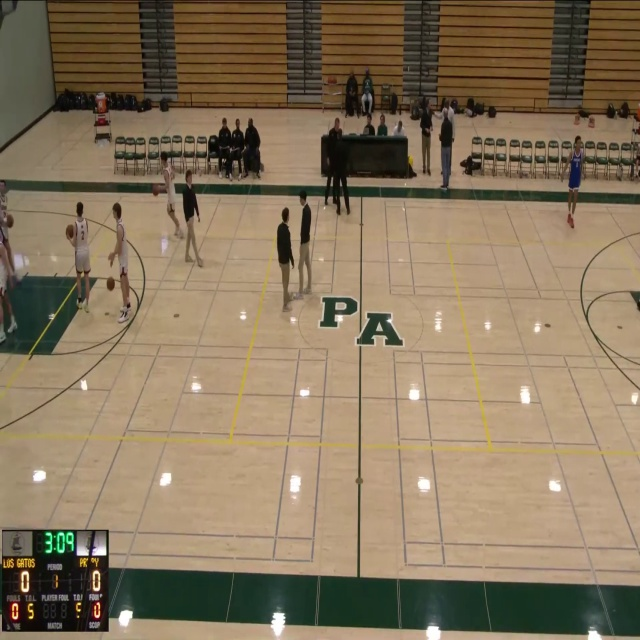Basketball: (152, 184, 165, 196), (65, 224, 74, 240), (4, 214, 14, 227), (106, 277, 114, 291)
